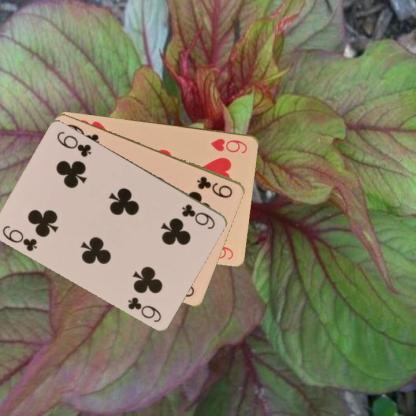6c: (179, 201, 217, 231), (0, 223, 39, 252)
6h: (208, 135, 249, 154)
9c: (194, 174, 234, 200)
